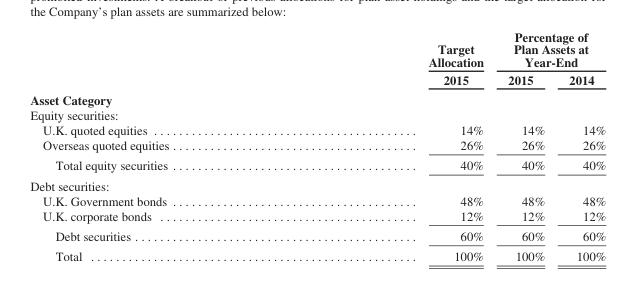table: (29, 28, 605, 263)
table column: (29, 28, 298, 263), (298, 28, 495, 263), (495, 28, 556, 263), (556, 28, 605, 263)
table column header: (29, 28, 605, 89)
table projected row header: (29, 89, 605, 106), (29, 175, 605, 192), (29, 106, 605, 122)
table row: (29, 28, 605, 70), (29, 154, 605, 175), (29, 225, 605, 245), (29, 70, 605, 89), (29, 245, 605, 263), (29, 89, 605, 106), (29, 137, 605, 154), (29, 175, 605, 192), (29, 208, 605, 225), (29, 106, 605, 122), (29, 192, 605, 208), (29, 122, 605, 137)
table spanning cell: (298, 28, 495, 89), (495, 28, 605, 70)
